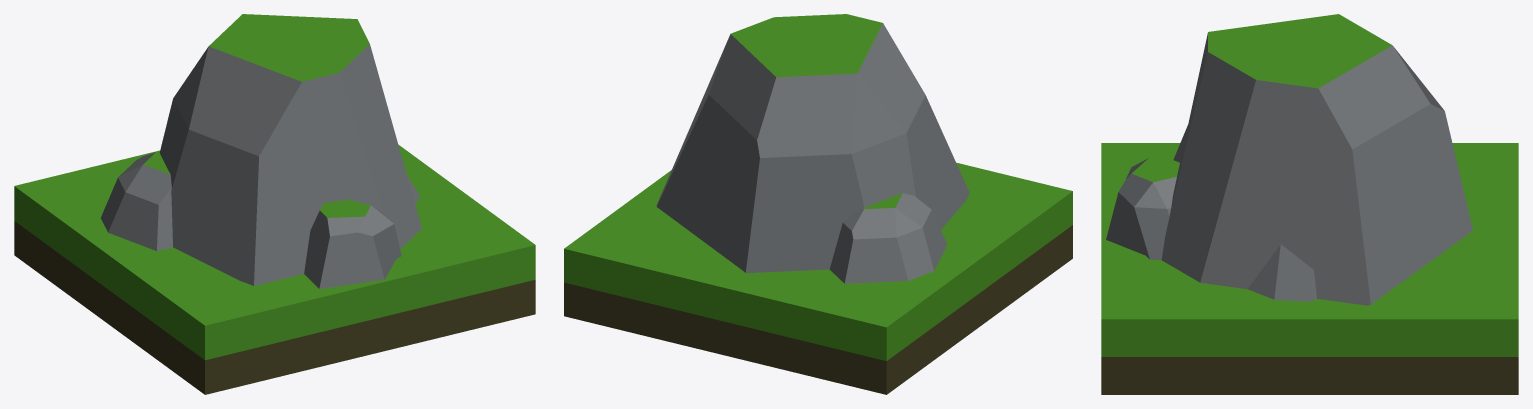
Rendered from Mountains.fbx.
3 renders of one model, left to right at view 1: azimuth 30°, elevation 25°; view 2: azimuth 150°, elevation 25°; view 3: azimuth 270°, elevation 25°, orthographic. The views are drawn at different scales.
Visible parts, largest first — view 1: Cylinder, Cube; view 2: Cylinder, Cube; view 3: Cylinder, Cube.
Boxes of the visible parts, x1,y1,x2,y2 form: Cylinder: [101, 14, 421, 288]; Cube: [14, 144, 535, 394]; Cylinder: [656, 14, 969, 283]; Cube: [564, 162, 1072, 394]; Cylinder: [1106, 14, 1472, 305]; Cube: [1101, 143, 1518, 394].
Bounding box in the file's own units: 100 × 69.86 × 100.
